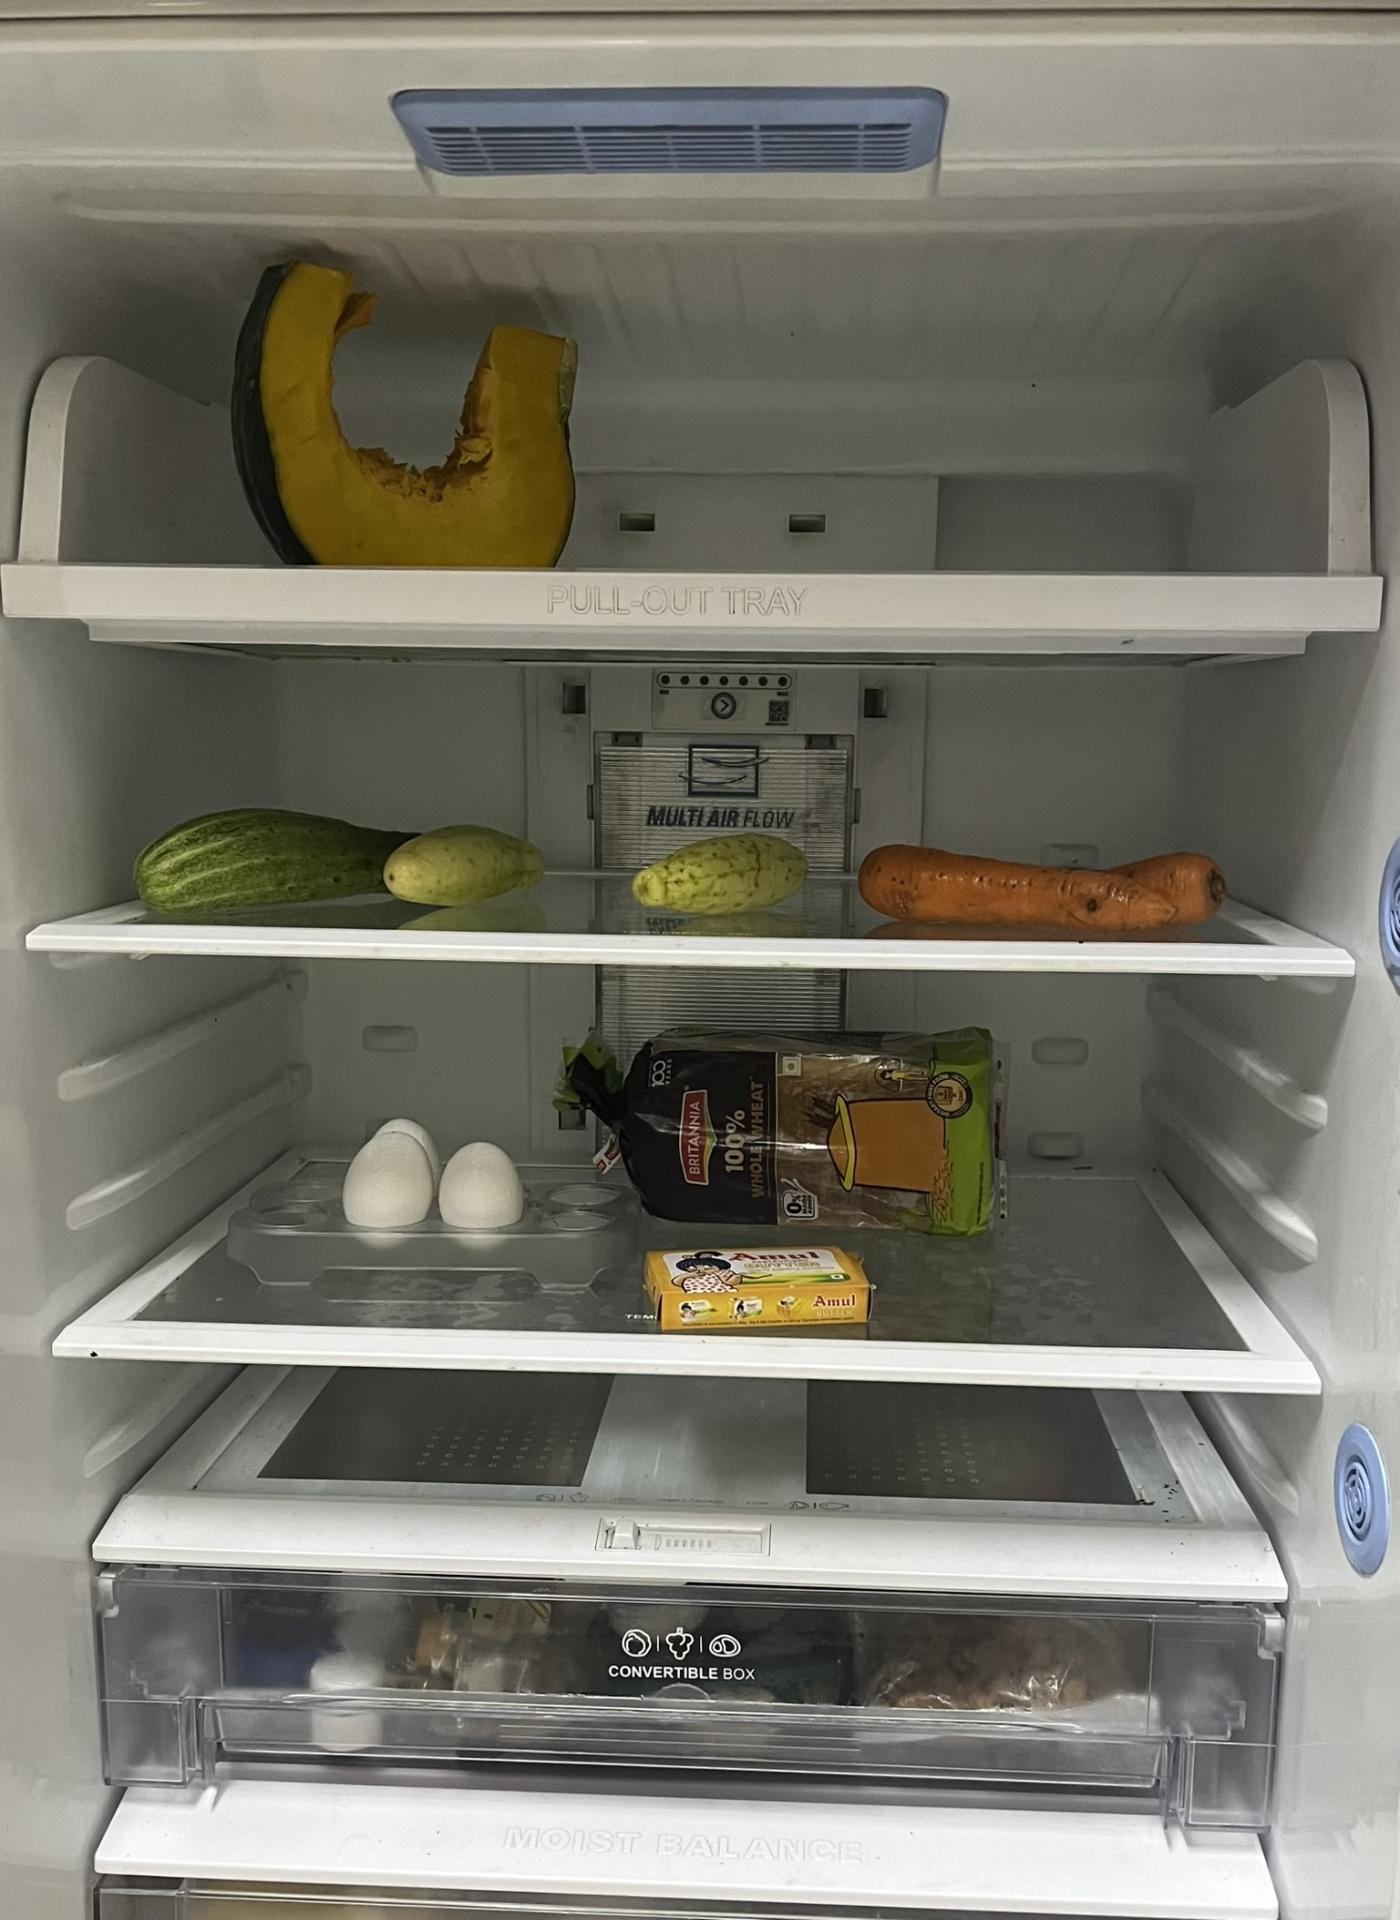bread: (570, 1027, 1000, 1234)
butter: (653, 1249, 875, 1330)
carrots: (868, 833, 1232, 930)
cucumber: (128, 811, 440, 915), (625, 835, 808, 912), (386, 826, 555, 908)
egg: (343, 1114, 517, 1236)
pumpkin: (230, 253, 590, 569)
